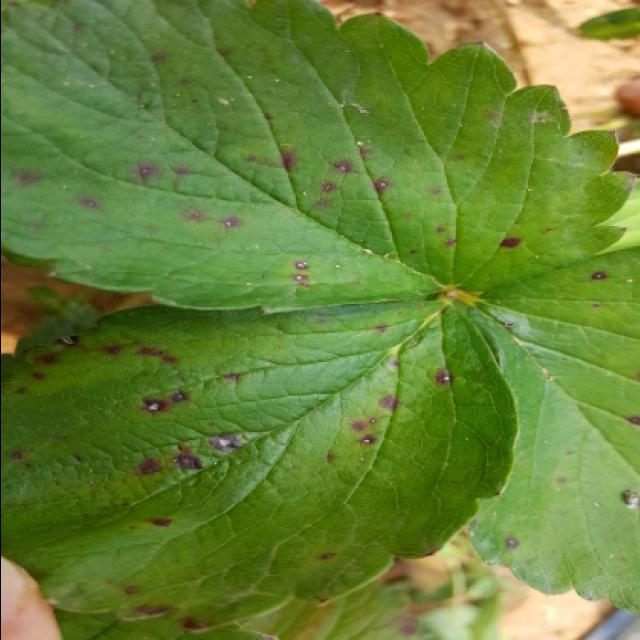Leaf Spot: (2, 2, 636, 318), (2, 294, 521, 634), (449, 243, 640, 616)
